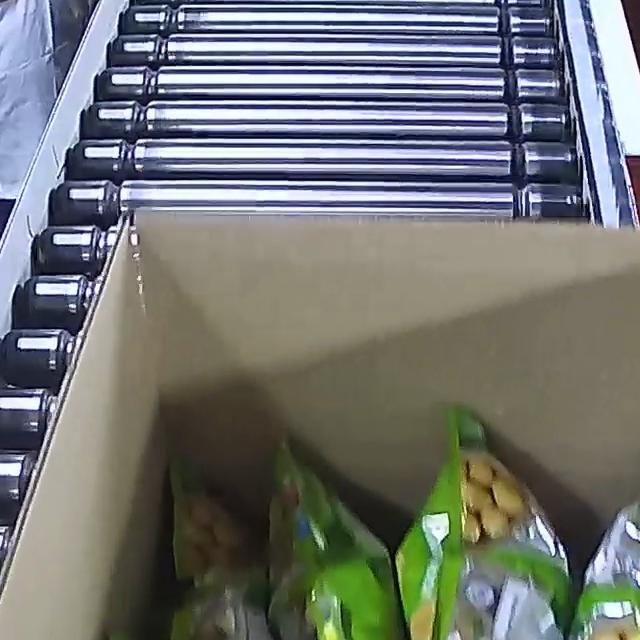yogurt: (100, 404, 640, 640)
